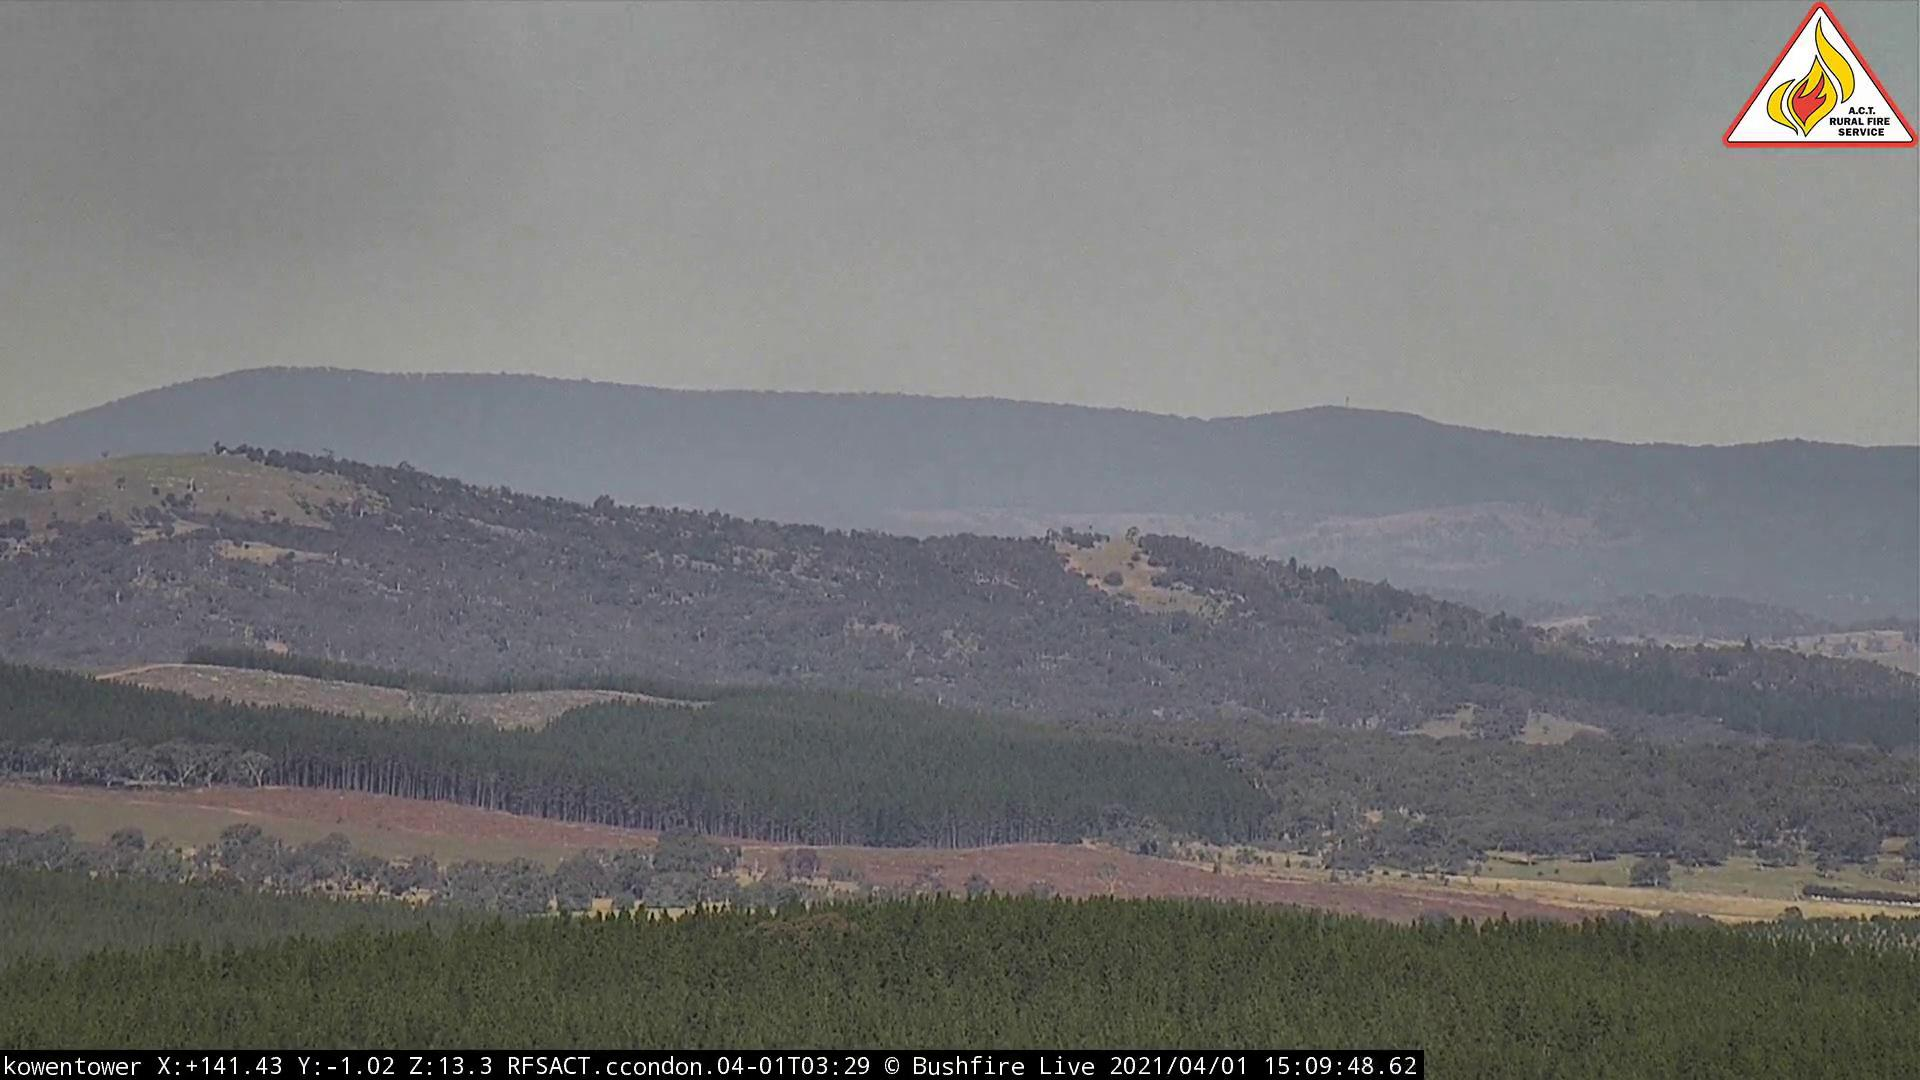Smoke: (3, 3, 1557, 484)
